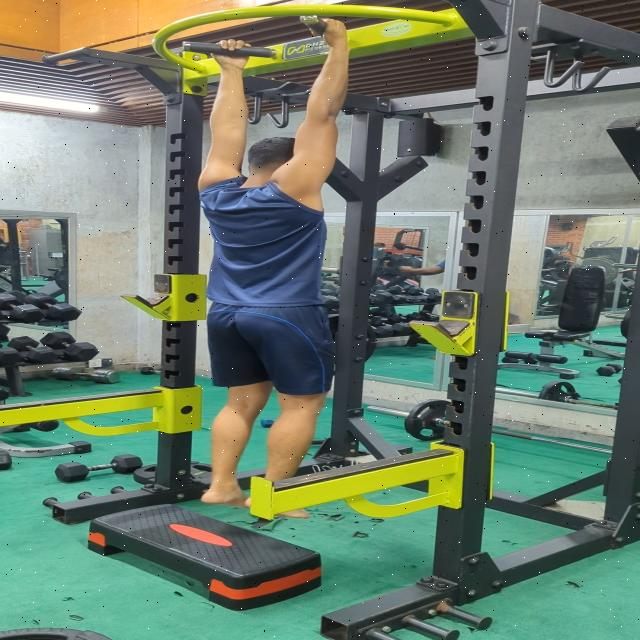Normal_PullUps: (181, 15, 374, 521)
